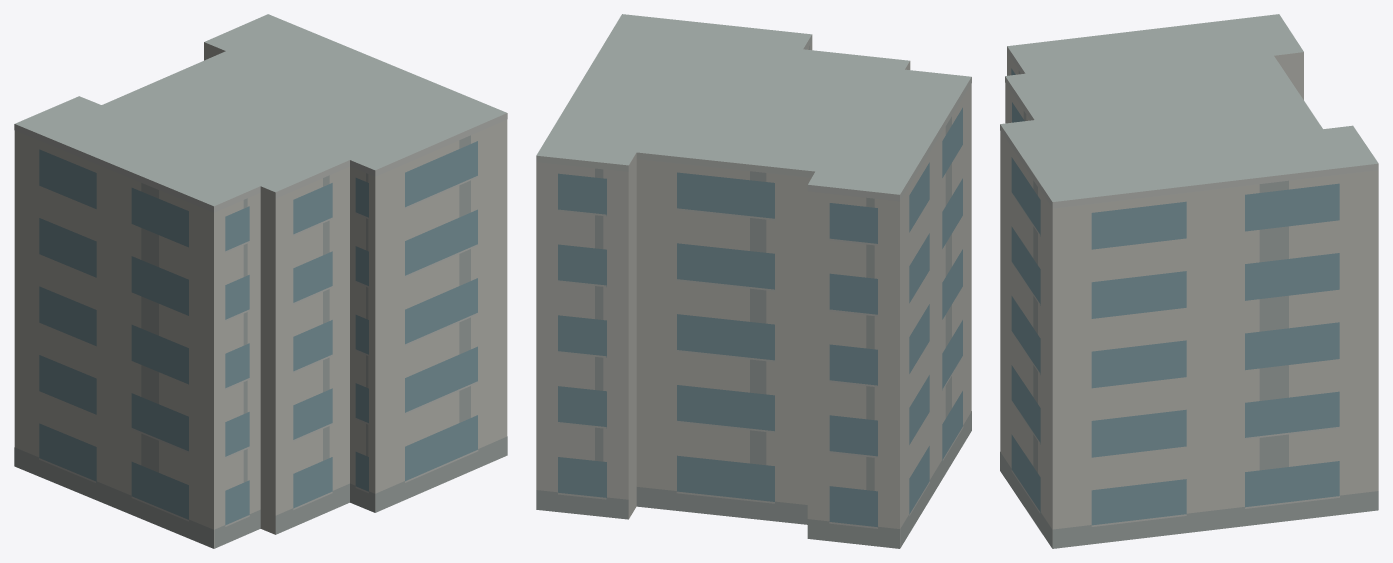
File: survey-upis-32949742.glb
3 renders of one model, left to right at view 1: azimuth 30°, elevation 25°; view 2: azimuth 150°, elevation 25°; view 3: azimuth 270°, elevation 25°, orthographic. The views are drawn at different scales.
Parts seen in each view (by area): view 1: survey-upis-32949742.tmp; view 2: survey-upis-32949742.tmp; view 3: survey-upis-32949742.tmp.
Part boxes in pixels (left/top/right/bottom): survey-upis-32949742.tmp: left=14, top=14, right=507, bottom=548; survey-upis-32949742.tmp: left=536, top=14, right=971, bottom=548; survey-upis-32949742.tmp: left=1000, top=14, right=1378, bottom=548.
Bounding box in the file's own units: 15.14 × 13 × 12.88.
